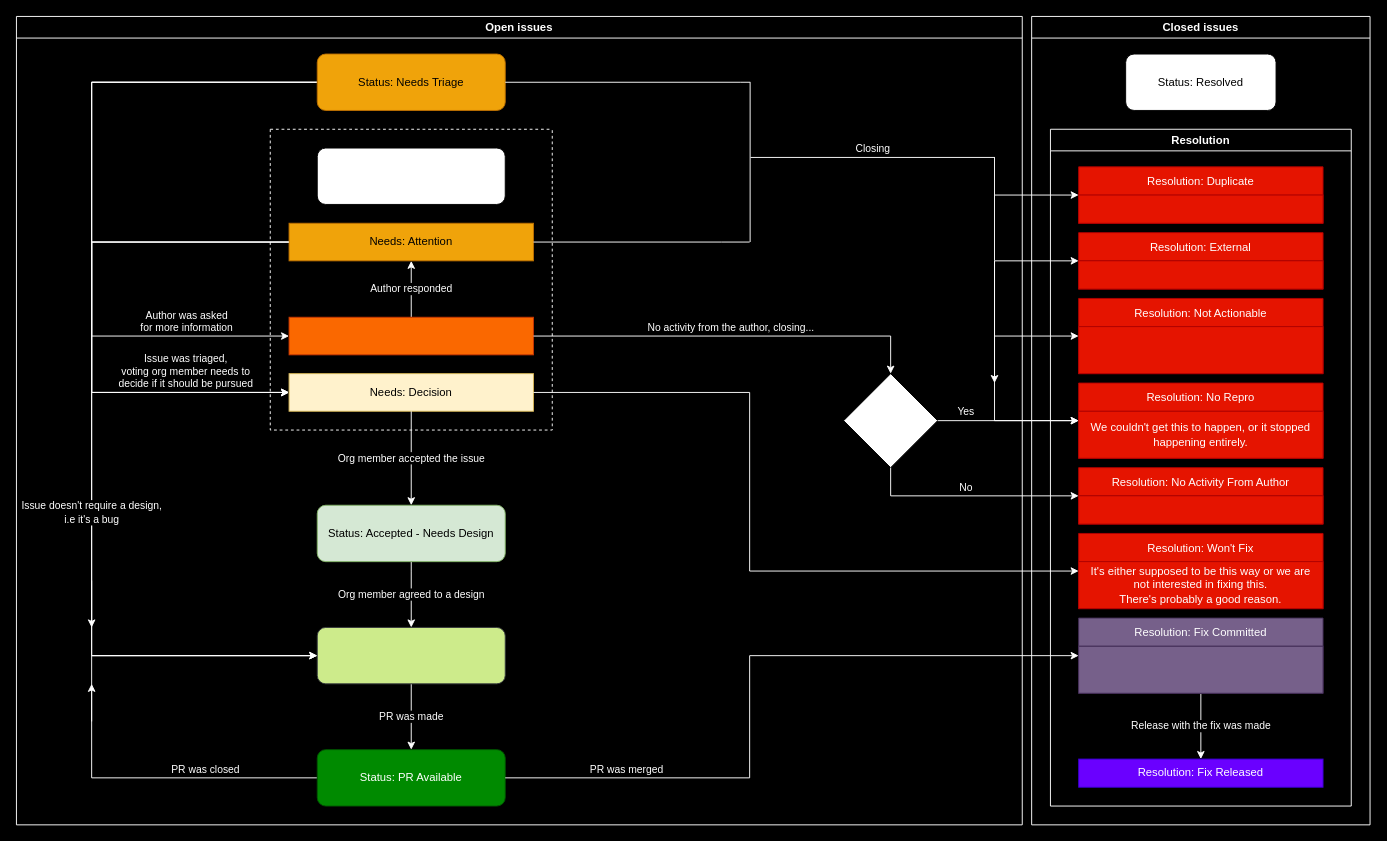
The diagram is 1387 pixels wide and 841 high, and some of its shapes have lost their labels. The shapes that lost their labels are listed below. From the top down, each one's centre as x and y in pixels, then its label:
(x=410, y=175): Status: Awaiting For Needs
(x=1200, y=208): Link the duplicate issue
(x=1200, y=274): Explain and link the external issue if possible
(x=410, y=335): Needs: Author Feedback
(x=1200, y=350): There is no action to be taken in response to this issue.
(x=890, y=420): Has Needs: Repro label?
(x=1200, y=509): The issue's author did not respond.
(x=410, y=655): Status: Accepted - PRs Welcome
(x=1200, y=669): Fix is checked in, but it has not been released yet.
